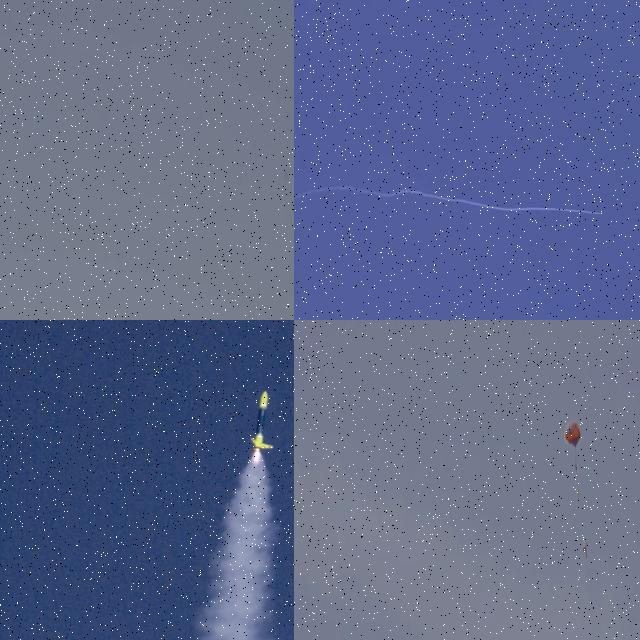Rocket: (248, 390, 274, 453), (598, 213, 600, 215)
